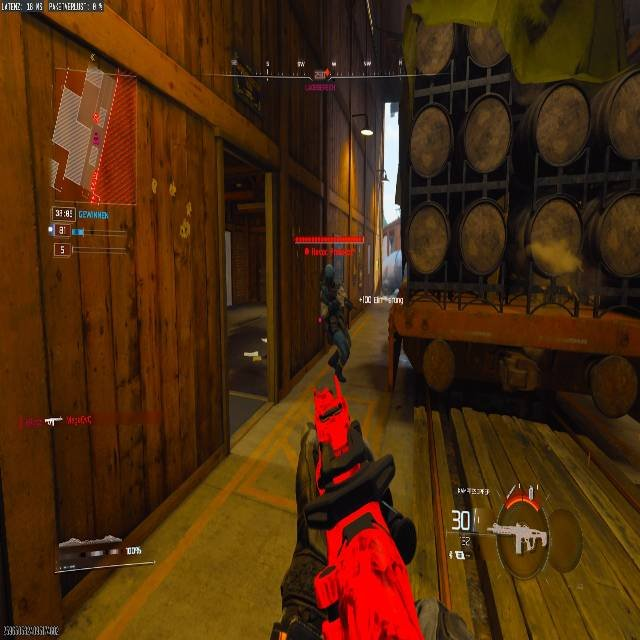head: (322, 265, 336, 284)
player: (319, 265, 353, 383)
